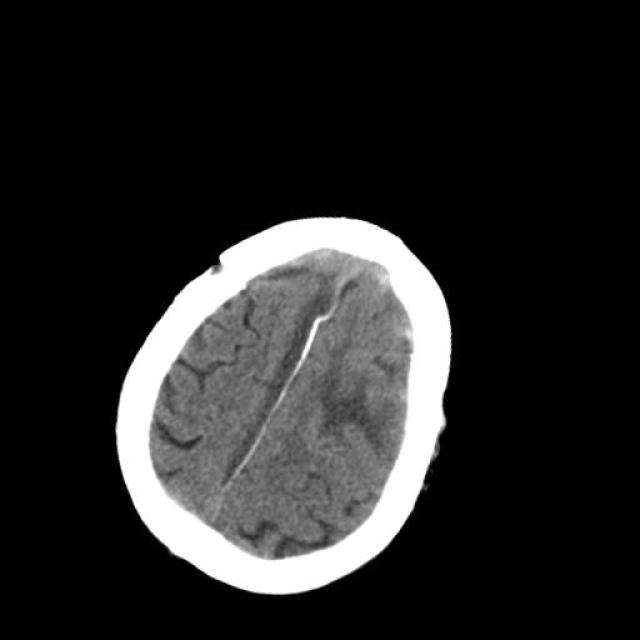Subdural: (244, 214, 414, 314)
